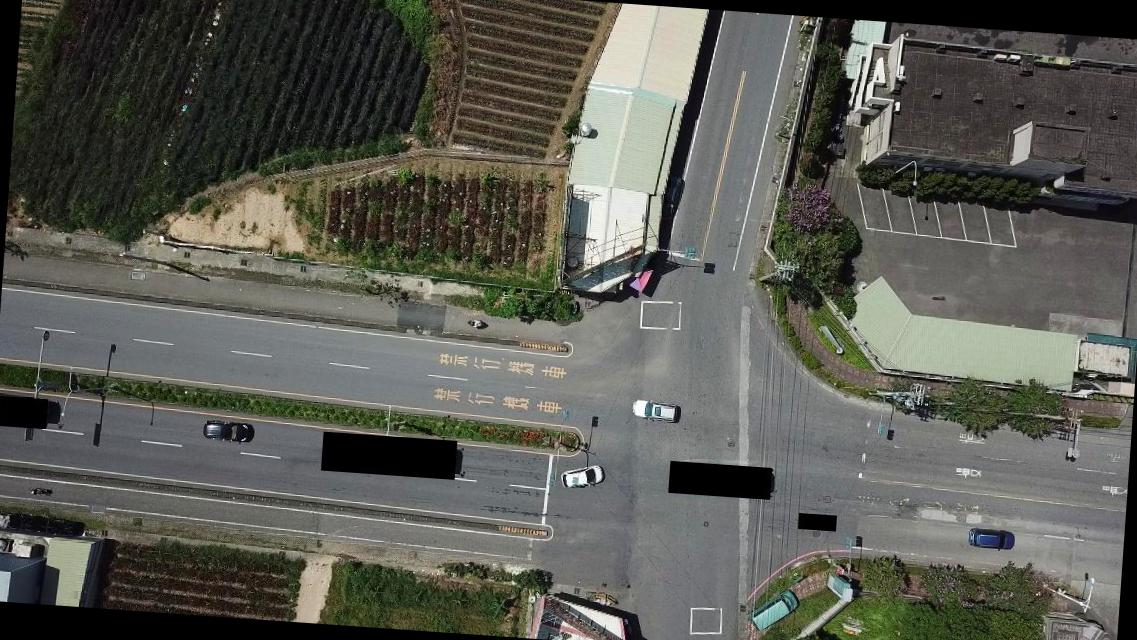vehicle: (747, 588, 800, 630), (559, 461, 605, 492), (630, 397, 682, 424), (966, 526, 1015, 552), (199, 420, 250, 442)
